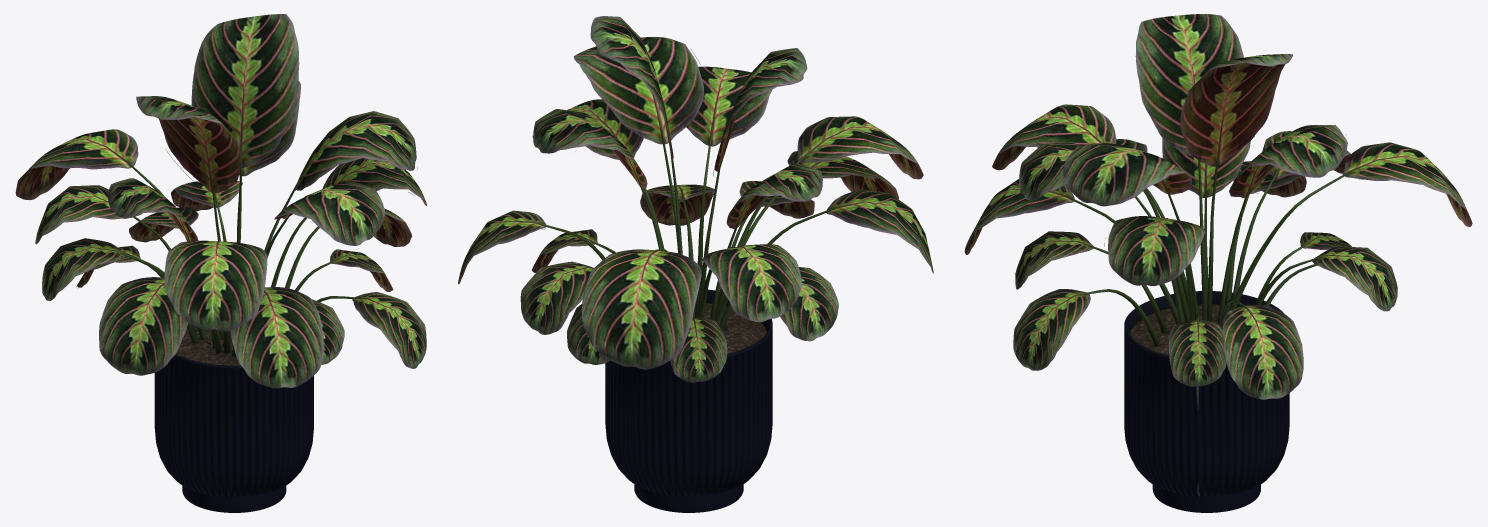
Rendered from plant_prayerPlant.fbx.
3 views of the same model, side by side, from view 1: azimuth 30°, elevation 25°; view 2: azimuth 150°, elevation 25°; view 3: azimuth 270°, elevation 25° (orthographic). The views are drawn at different scales.
Visible parts, largest first — view 1: geo_plant_prayerPlant_LOD0; view 2: geo_plant_prayerPlant_LOD0; view 3: geo_plant_prayerPlant_LOD0.
Boxes of the visible parts, x1=… form: geo_plant_prayerPlant_LOD0: x1=15, y1=14, x2=426, y2=512; geo_plant_prayerPlant_LOD0: x1=458, y1=16, x2=933, y2=512; geo_plant_prayerPlant_LOD0: x1=964, y1=14, x2=1472, y2=512.
Bounding box in the file's own units: 0.3911 × 0.4434 × 0.4414.
